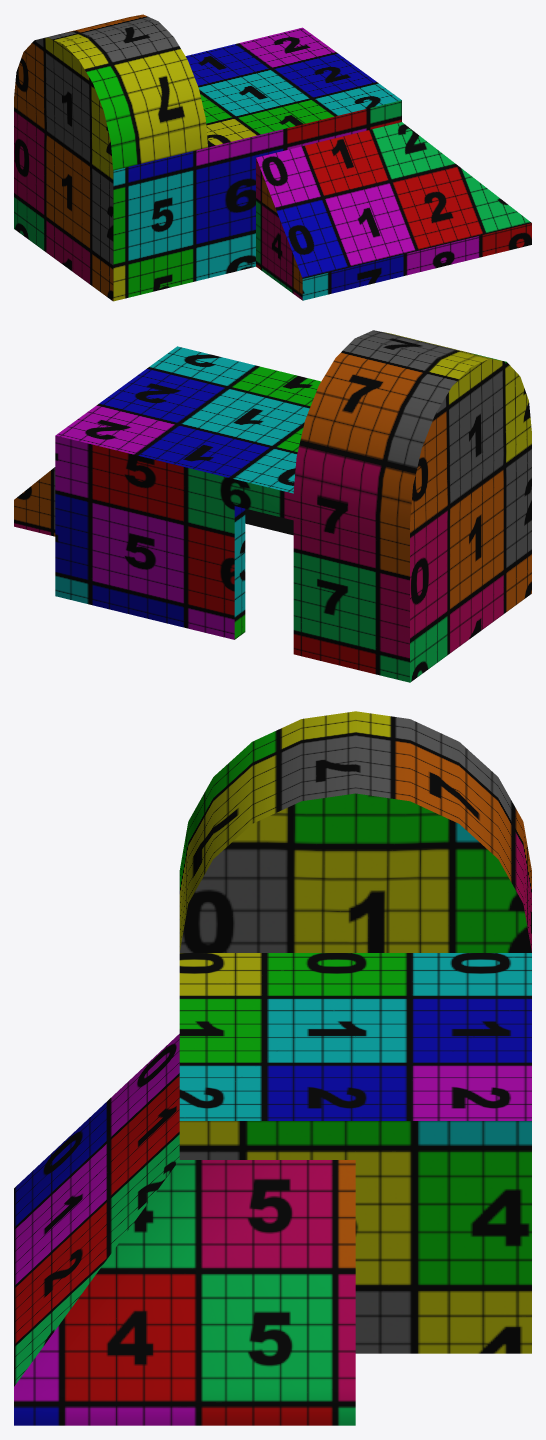
File: UV Building.fbx
3 views of the same model, one above another, from view 1: azimuth 30°, elevation 25°; view 2: azimuth 150°, elevation 25°; view 3: azimuth 270°, elevation 25° (orthographic). The views are drawn at different scales.
Parts seen in each view (by area): view 1: pCylinder1; view 2: pCylinder1; view 3: pCylinder1.
Part boxes in pixels (x1,y1,x2,y2): pCylinder1: [14, 14, 531, 301]; pCylinder1: [14, 330, 531, 682]; pCylinder1: [14, 711, 531, 1425].
Bounding box in the file's own units: 17.86 × 10.12 × 12.12.
1 material, 1 textured.
